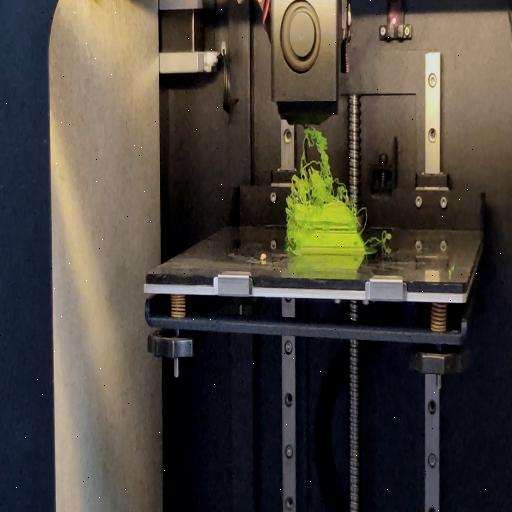spaghetti: (287, 124, 353, 206), (286, 206, 296, 256), (356, 203, 370, 235), (364, 233, 394, 247)
